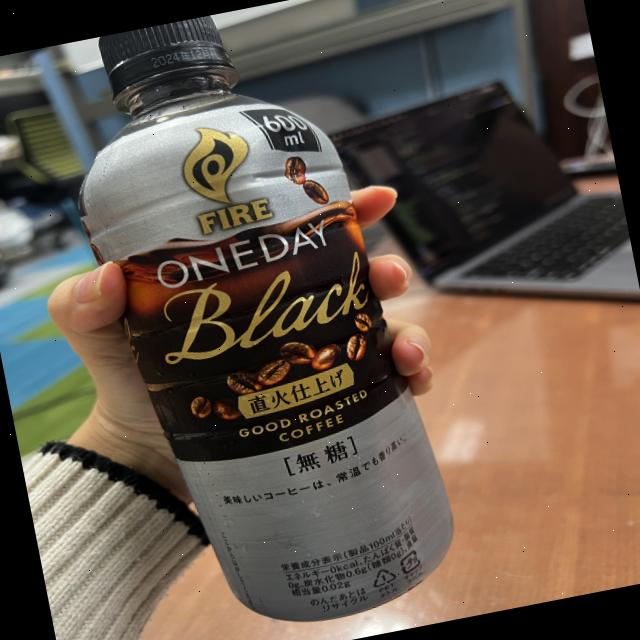coffee-black: (48, 0, 476, 640)
